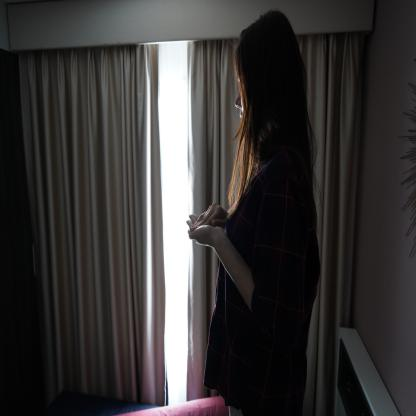Love: (184, 200, 231, 253)
